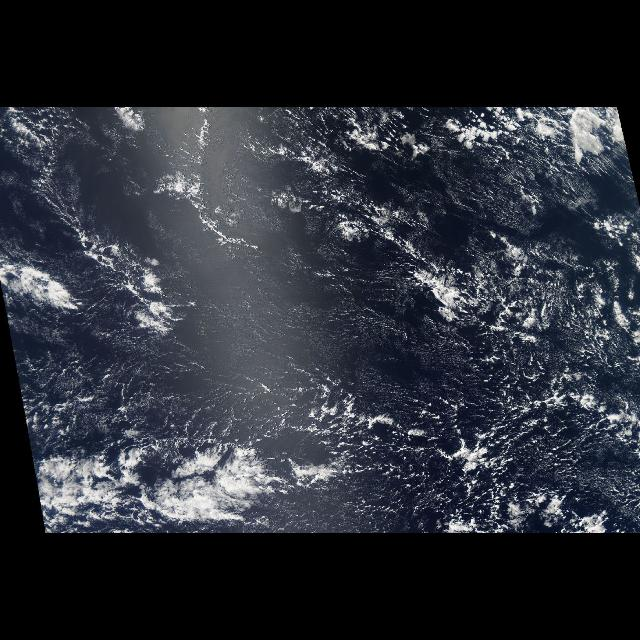Gravel: (382, 191, 626, 534)
